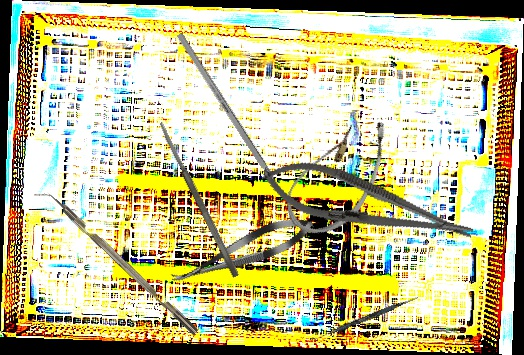Cannula: (276, 99, 401, 249)
Chopper: (33, 182, 199, 343)
Micro Scissor: (166, 208, 319, 295)
Needle Holder: (255, 149, 480, 260)
Pusher: (176, 32, 299, 217)
Spatula Surgical: (156, 120, 241, 279), (309, 293, 419, 345)
